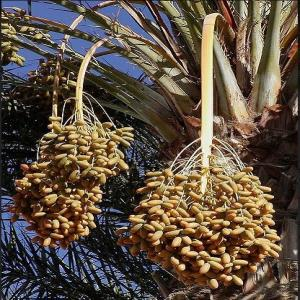palm tree: (1, 1, 298, 298)
